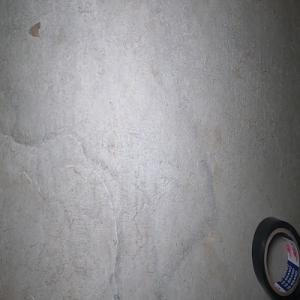Tape: (251, 216, 300, 300)
